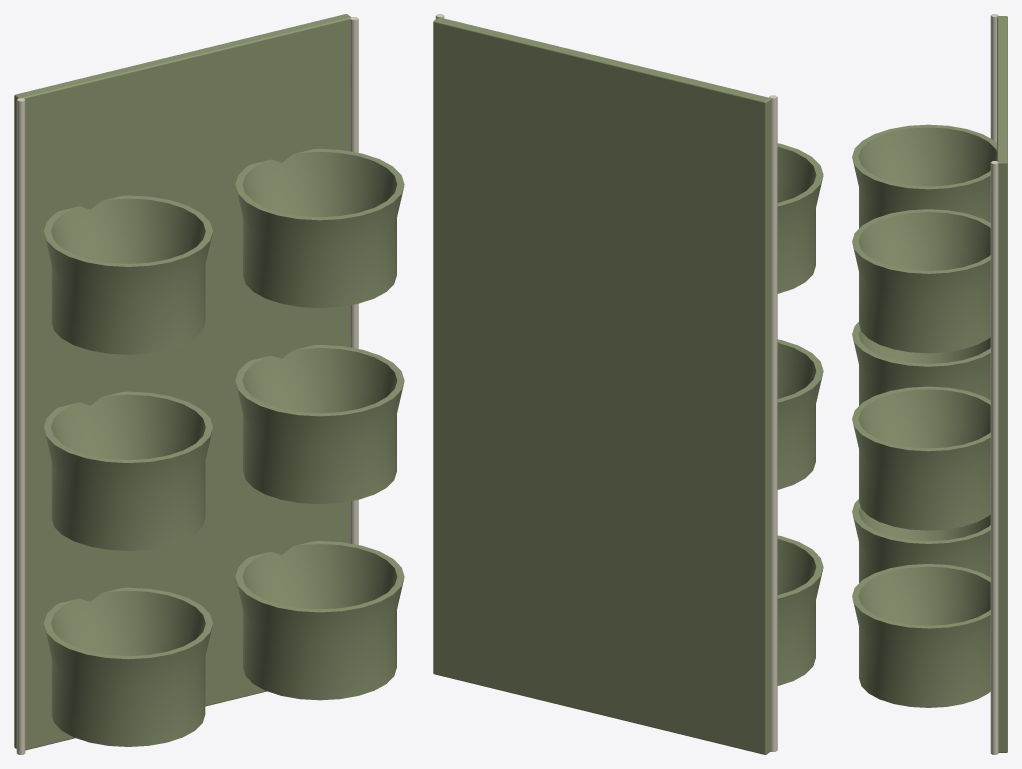
File: survival-greenhouse-and-irrigation-vertical-pocket-pla-310ce9f7__21311.glb
The picture shows the model from 3 angles, left to right: view 1: azimuth 30°, elevation 25°; view 2: azimuth 150°, elevation 25°; view 3: azimuth 270°, elevation 25°; orthographic projection. The views are drawn at different scales.
Parts seen in each view (by area): view 1: vertical-pocket-planter; view 2: vertical-pocket-planter; view 3: vertical-pocket-planter.
Part boxes in pixels (x1,y1,x2,y2): vertical-pocket-planter: (14,14,404,754); vertical-pocket-planter: (433,14,823,754); vertical-pocket-planter: (852,14,1007,754).
Size of the model in its own units: 0.8157 by 1.5 by 0.3585.
